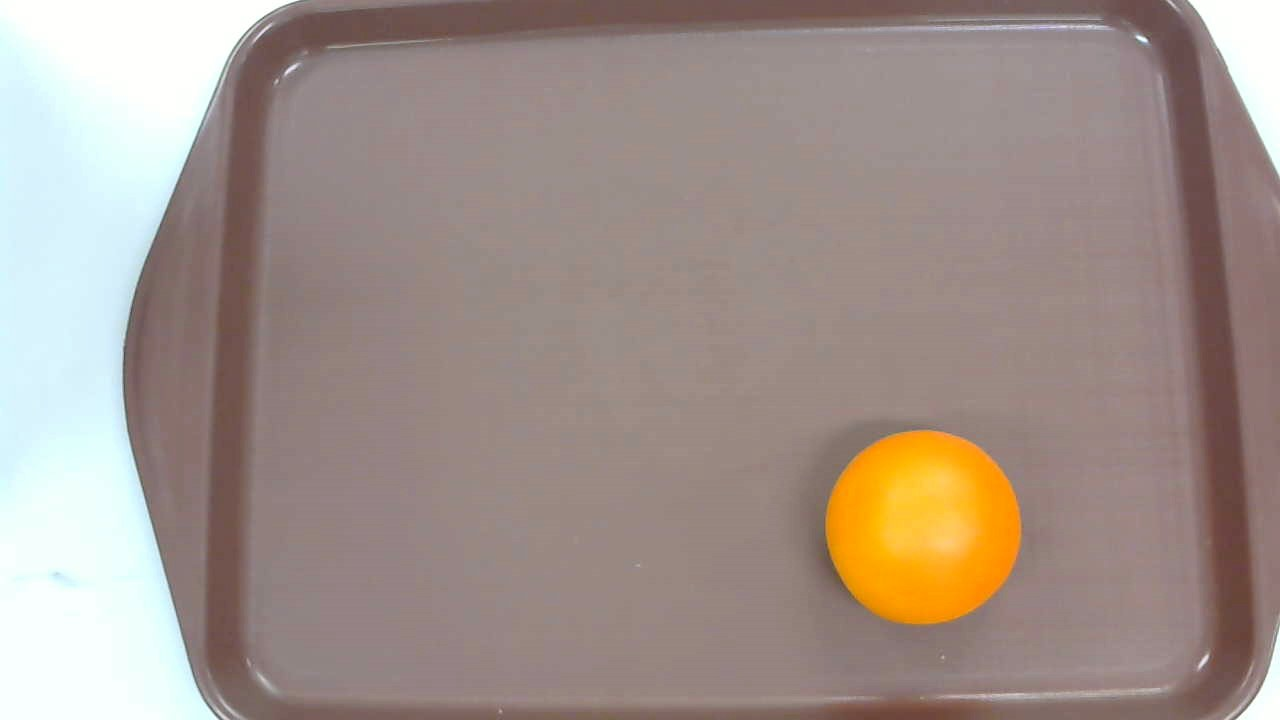bun: (825, 430, 1021, 626)
